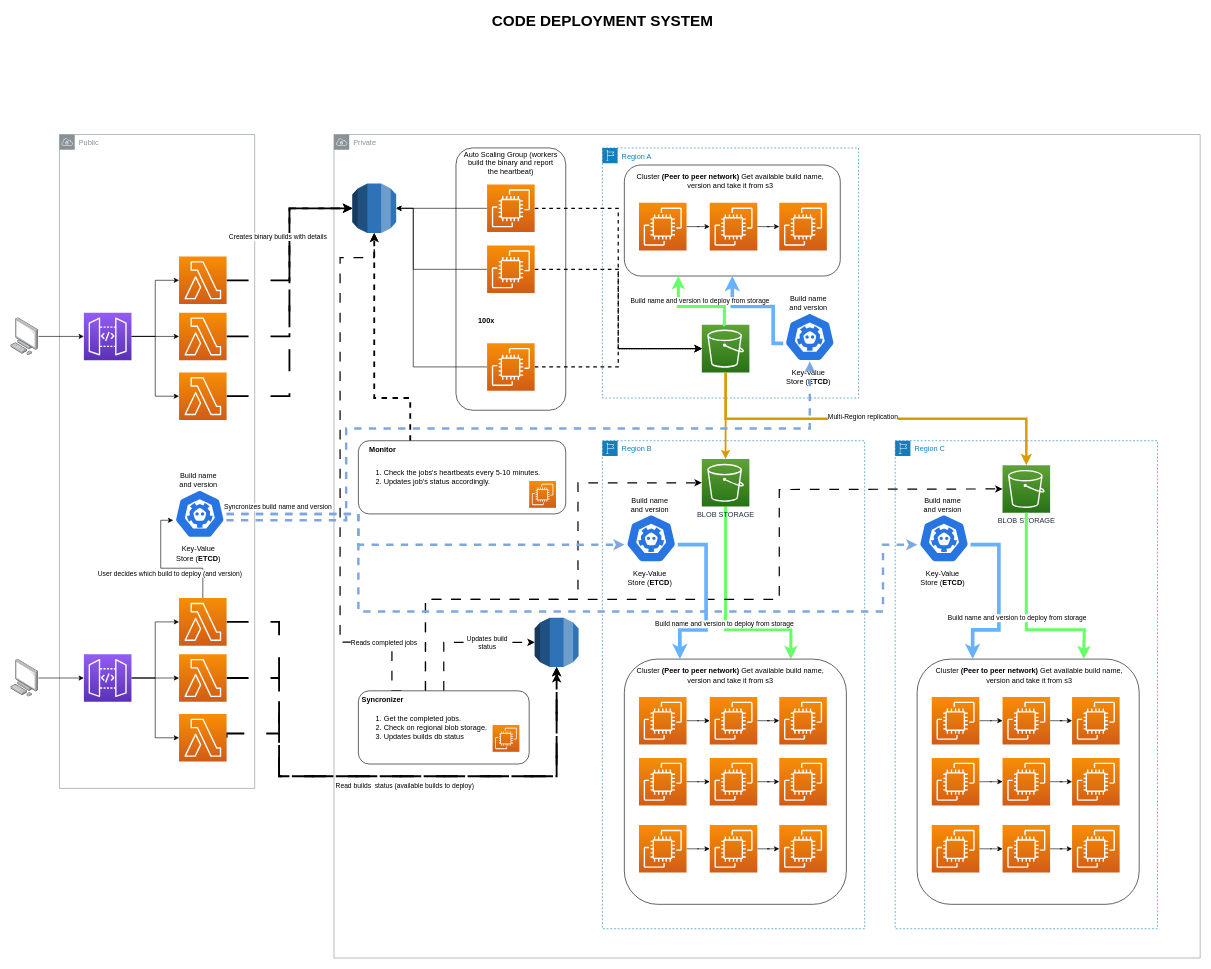
Image size: 1211x969. Some labels were removed from this diagram. Here are the shapes that lost their labels. From the top down, the centre of each, then its label:
[374,208]: DATABASE ( JOBS )
[725,348]: MAIN BLOB STORAGE
[556,642]: DATABASE ( BUILDS )
